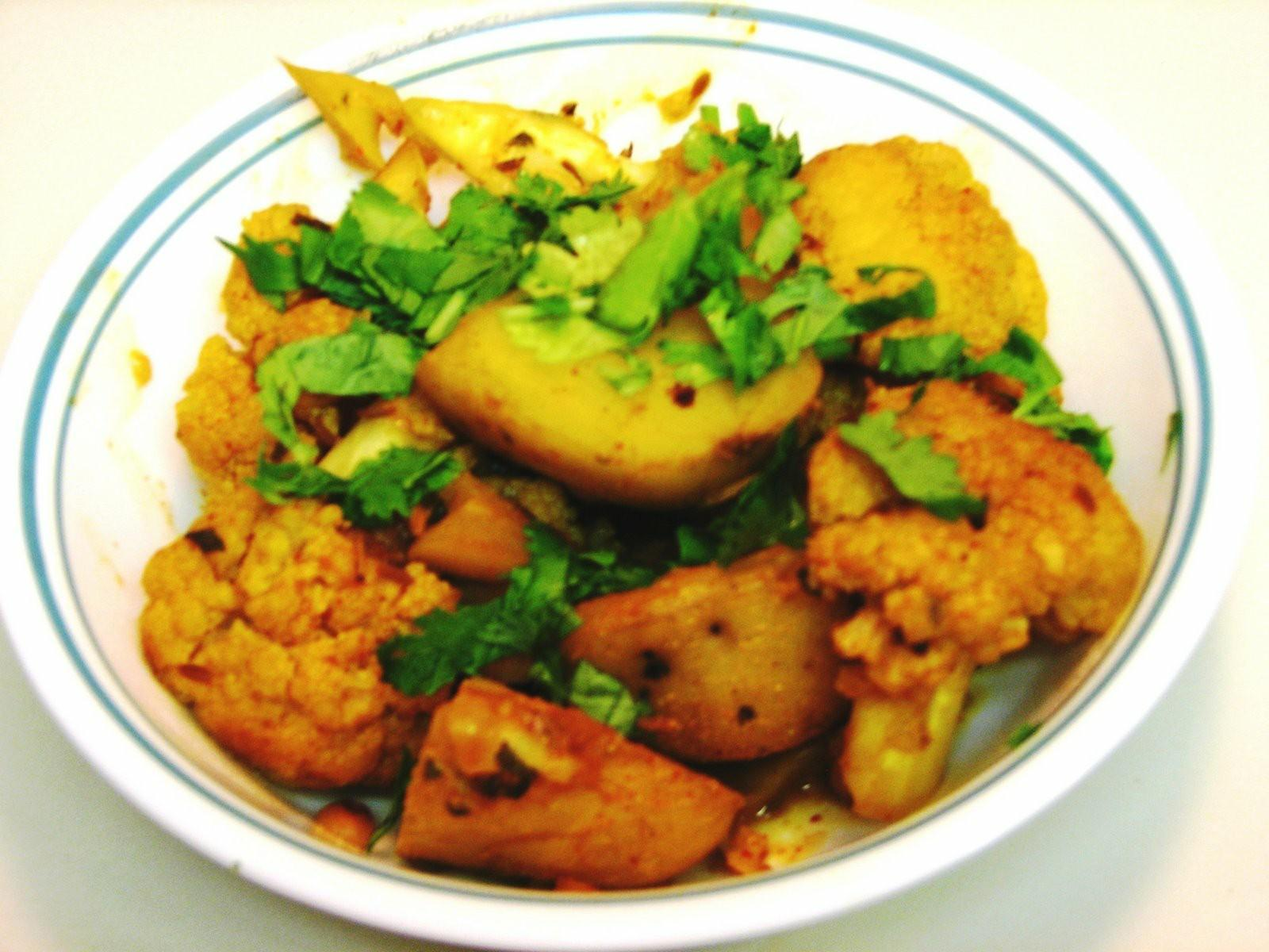AlooGobi: (143, 64, 1145, 886)
